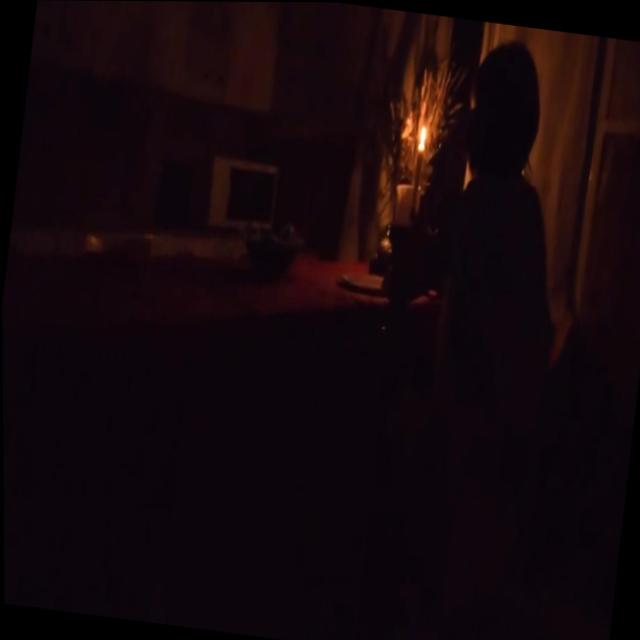fire: (416, 122, 428, 146)
